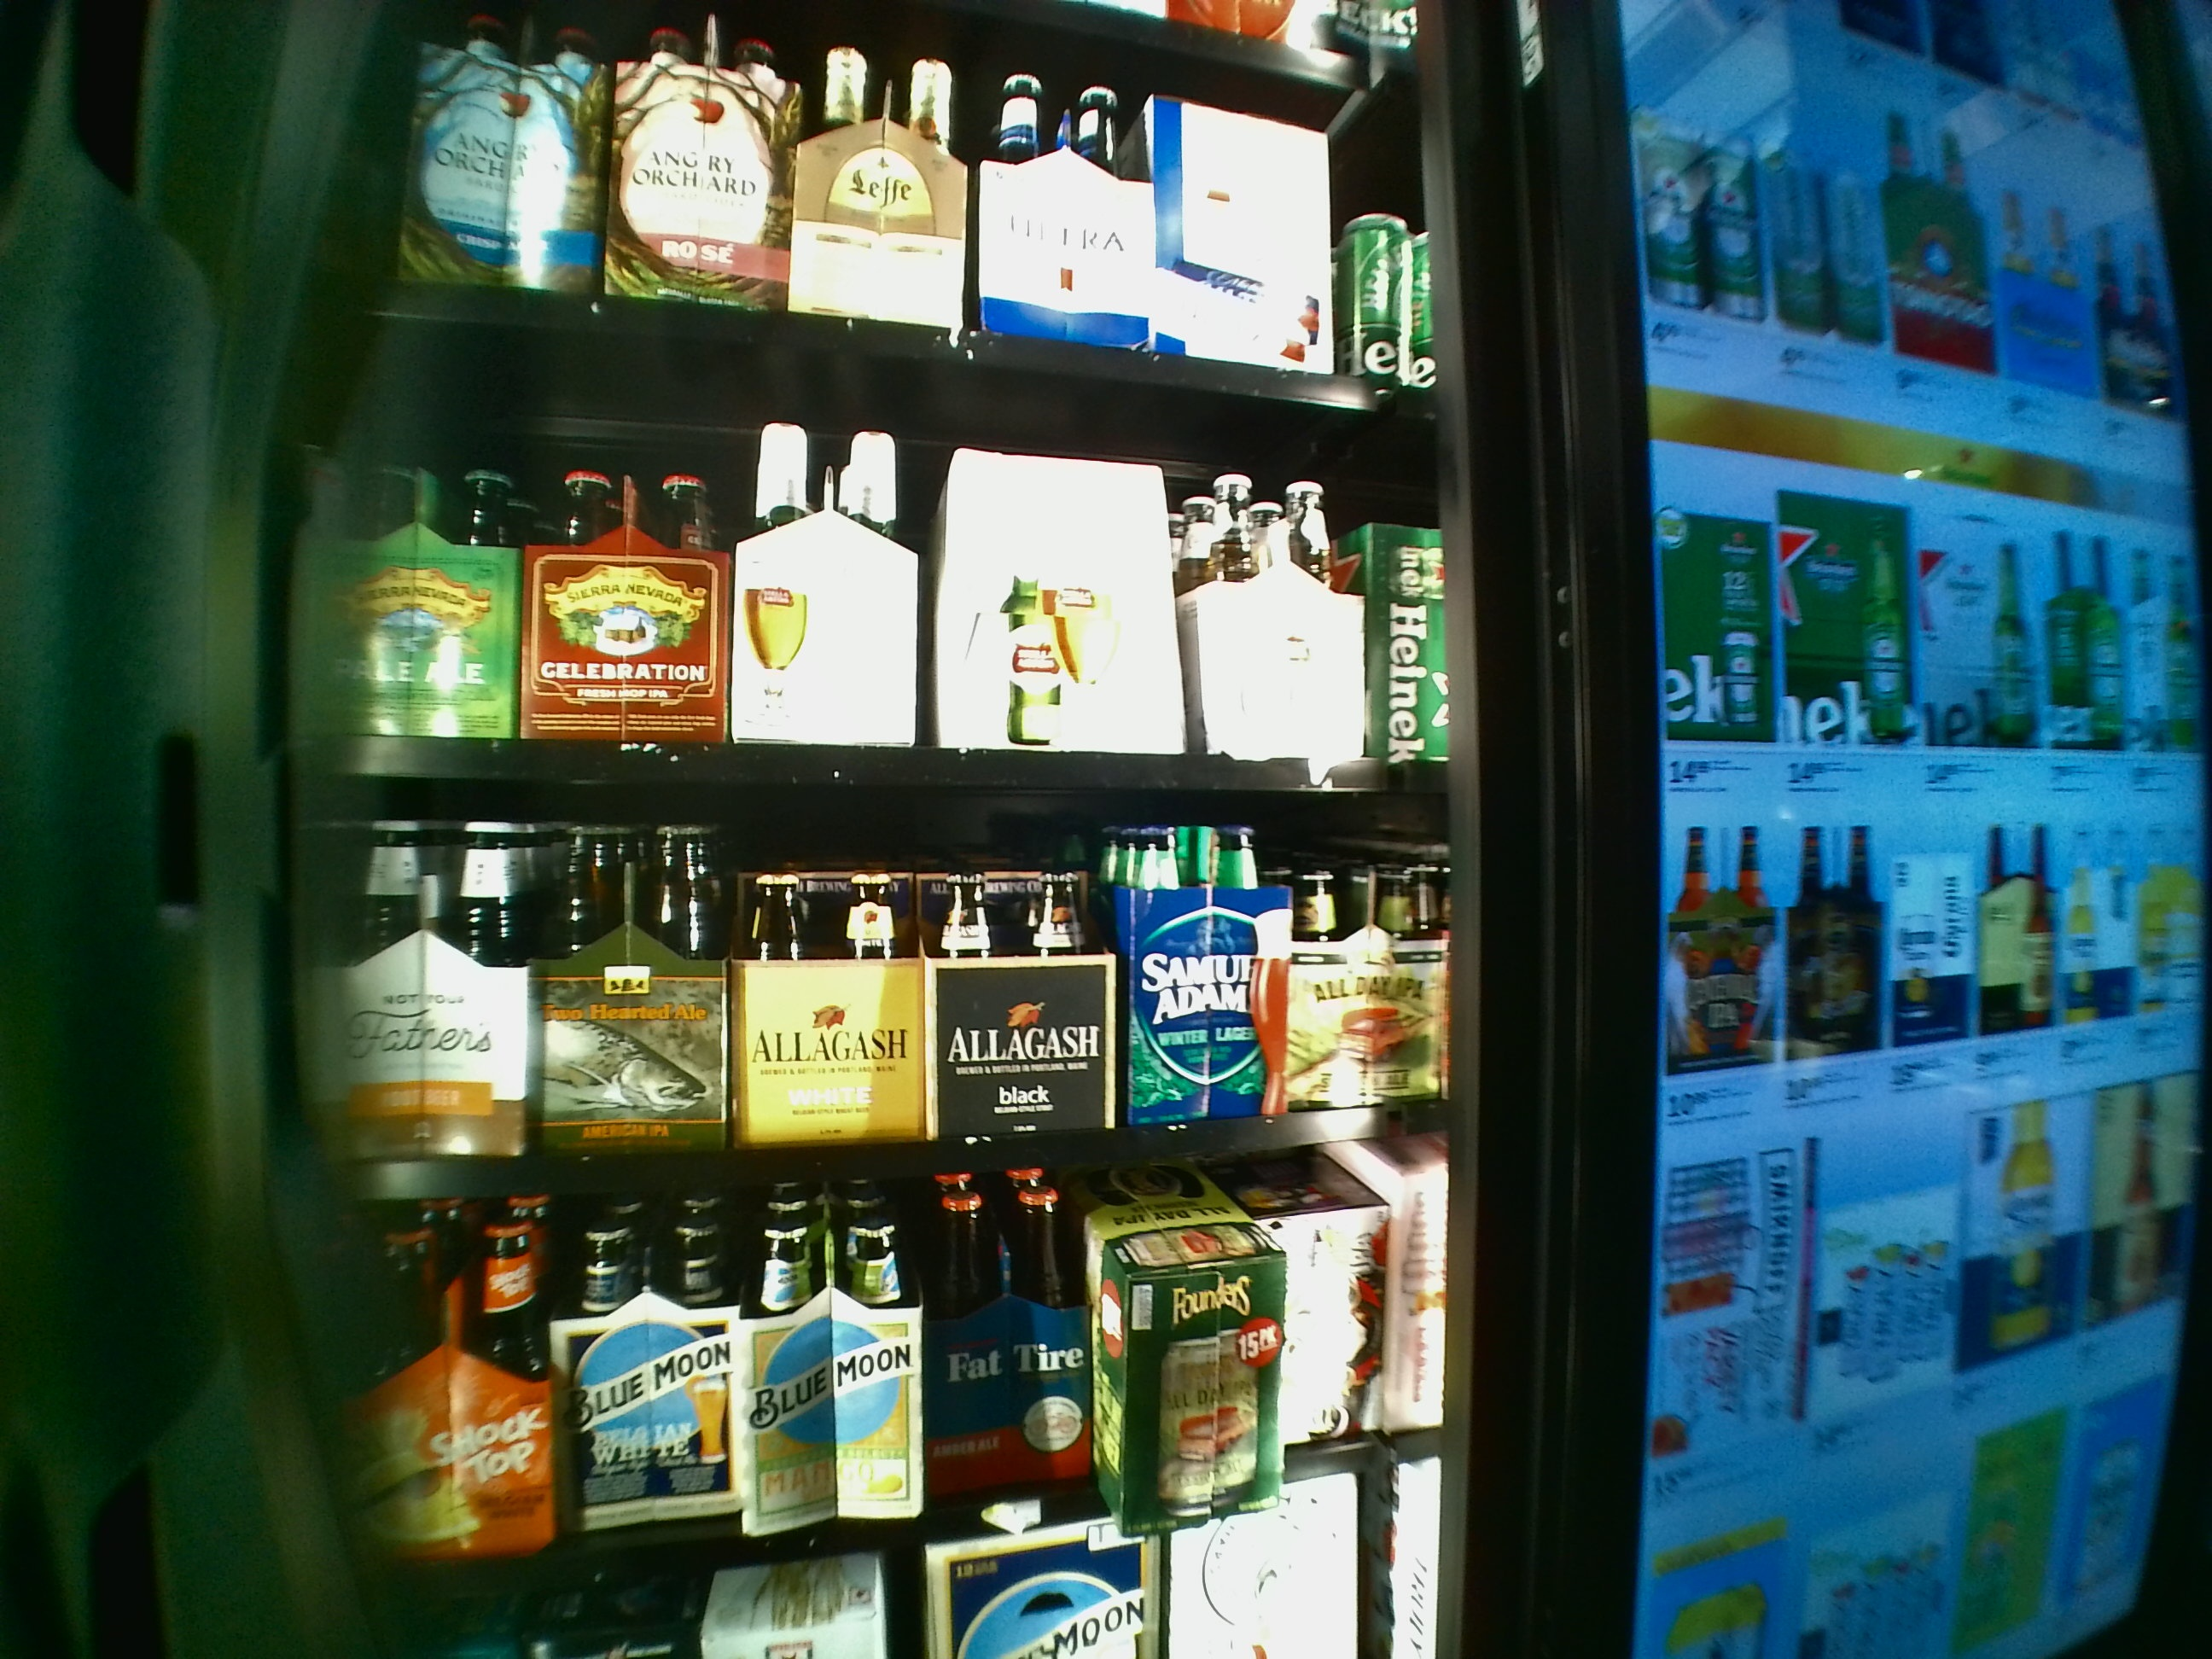shelf: (289, 324, 1435, 793), (284, 807, 1447, 1206)
